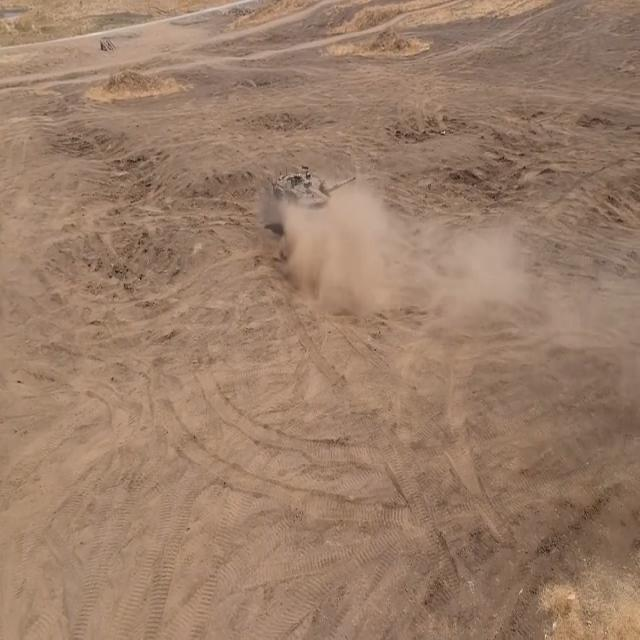tank: (270, 160, 366, 224)
